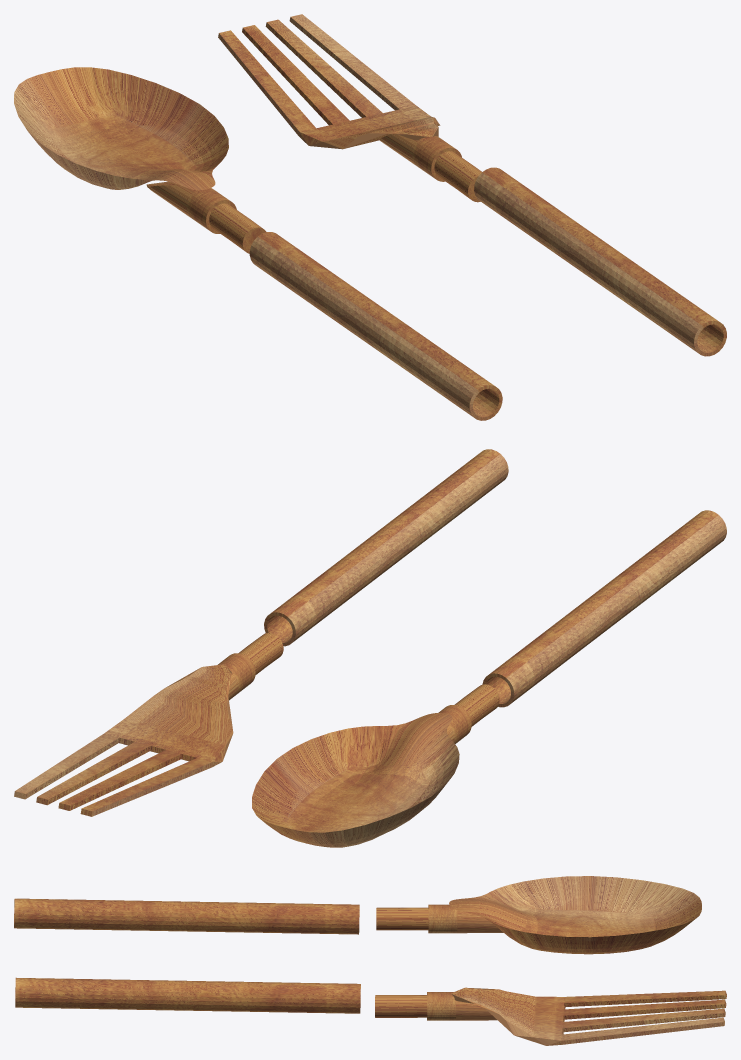
The model's file is wood cutlery hibryd.glb.
The picture shows the model from 3 angles, top to bottom: view 1: azimuth 30°, elevation 25°; view 2: azimuth 150°, elevation 25°; view 3: azimuth 270°, elevation 25°; orthographic projection. The views are drawn at different scales.
Parts seen in each view (by area): view 1: sendok, Garpu kepala, Cylinder, Garpu, Cylinder.003, Garpu gagang; view 2: sendok, Garpu kepala, Garpu, Cylinder, Garpu gagang, Cylinder.003; view 3: sendok, Cylinder, Garpu, Garpu kepala, Cylinder.003, Garpu gagang.
Boxes of the visible parts, x1=… form: sendok: x1=14, y1=67, x2=228, y2=190; Garpu kepala: x1=218, y1=14, x2=440, y2=149; Cylinder: x1=249, y1=232, x2=502, y2=420; Garpu: x1=474, y1=167, x2=726, y2=356; Cylinder.003: x1=146, y1=181, x2=266, y2=253; Garpu gagang: x1=379, y1=134, x2=481, y2=202; sendok: x1=252, y1=713, x2=459, y2=847; Garpu kepala: x1=14, y1=664, x2=233, y2=816; Garpu: x1=264, y1=449, x2=508, y2=646; Cylinder: x1=482, y1=510, x2=726, y2=707; Garpu gagang: x1=218, y1=632, x2=283, y2=700; Cylinder.003: x1=438, y1=684, x2=499, y2=743; sendok: x1=449, y1=876, x2=701, y2=954; Cylinder: x1=14, y1=898, x2=359, y2=934; Garpu: x1=15, y1=977, x2=360, y2=1013; Garpu kepala: x1=451, y1=987, x2=726, y2=1045; Cylinder.003: x1=376, y1=904, x2=503, y2=933; Garpu gagang: x1=375, y1=992, x2=497, y2=1020.
Bounding box in the file's own units: 1.08 × 0.1736 × 2.38.
6 materials, 6 textured.
